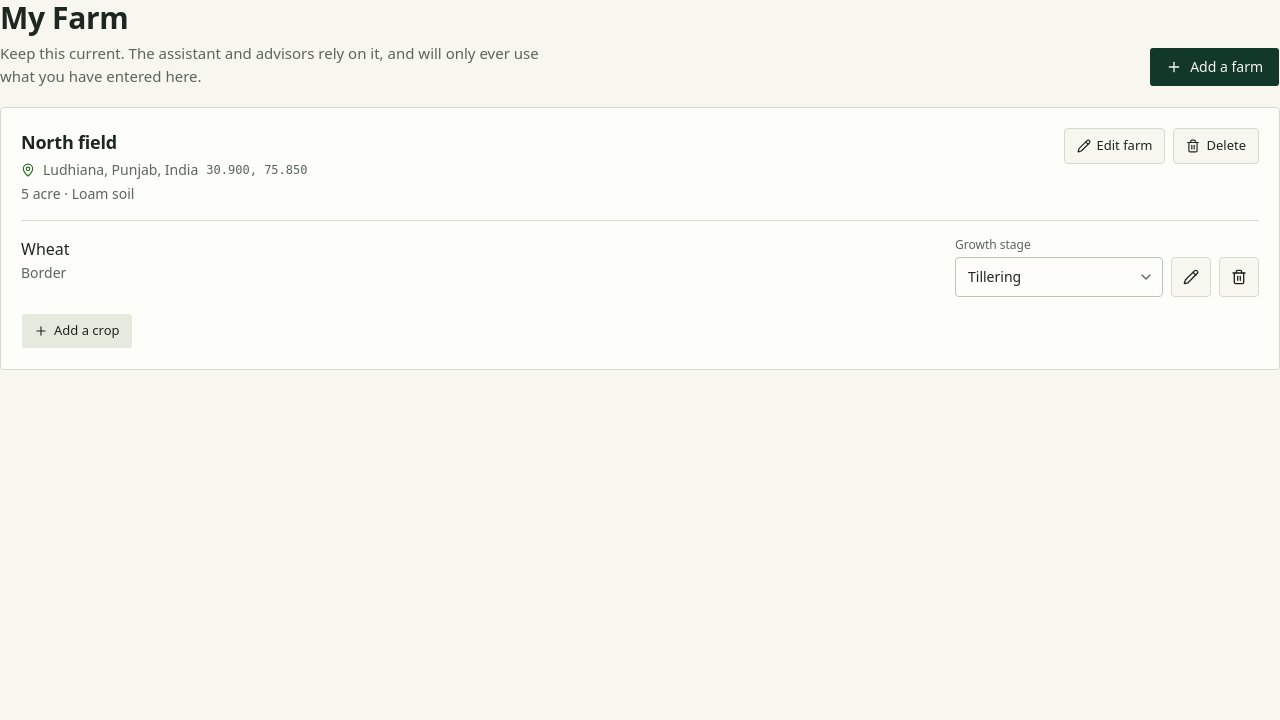
Test case: FarmPage › adds a farm with only what was entered
Click the button "Add a farm" at x=1215, y=67, box left=1149, top=47, right=1279, bottom=87
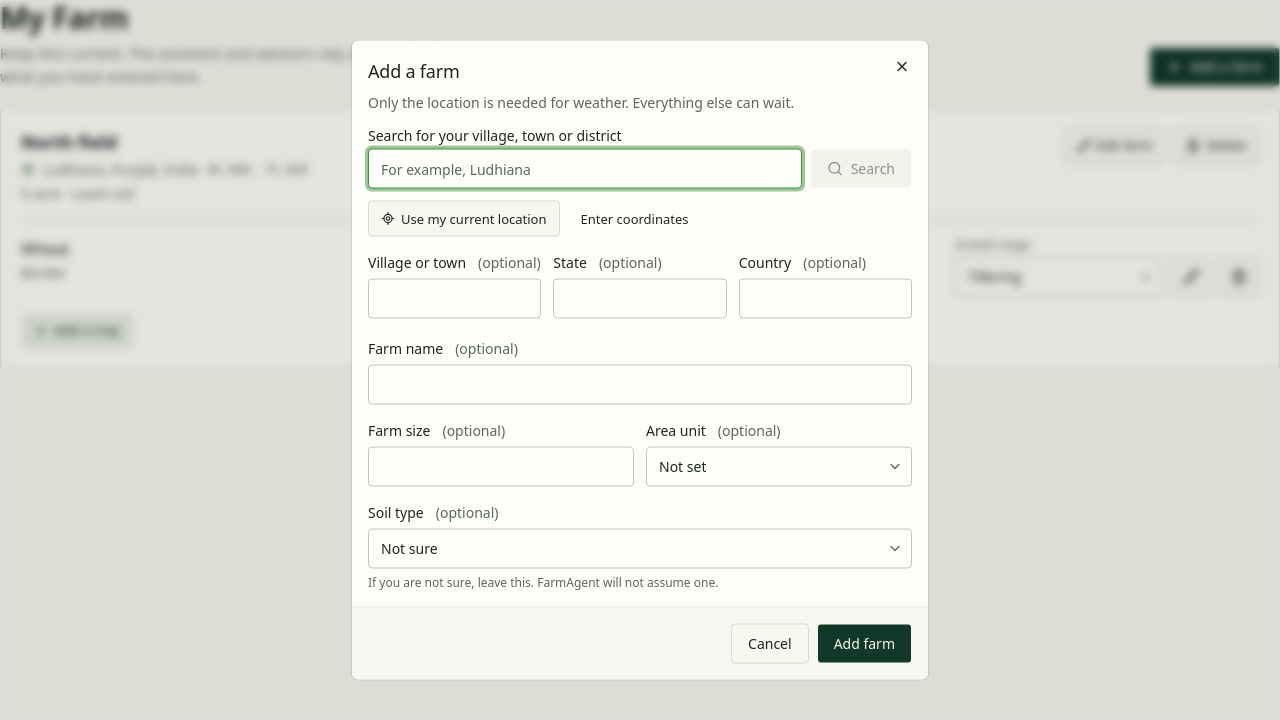
Type "River plot" into the field labelled "Farm name (optional)" at x=640, y=384, box left=368, top=364, right=912, bottom=404
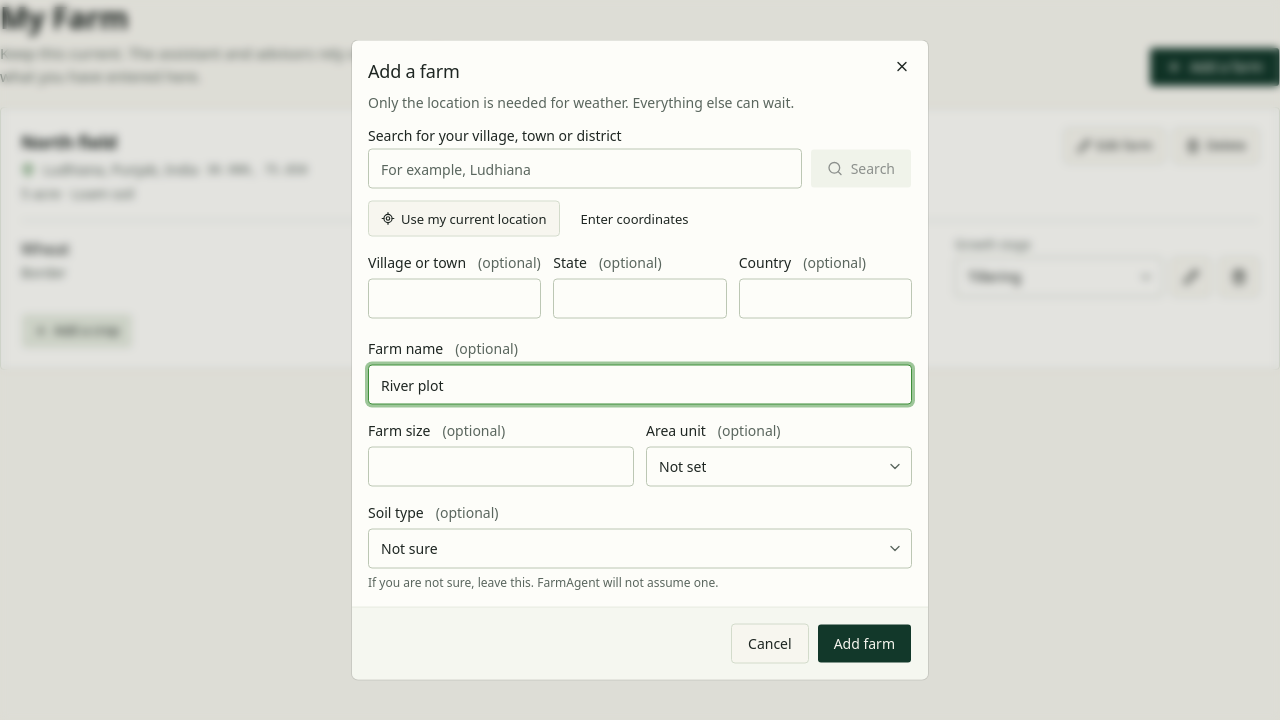
Click the button "Add farm" at x=864, y=644, box left=817, top=624, right=912, bottom=664
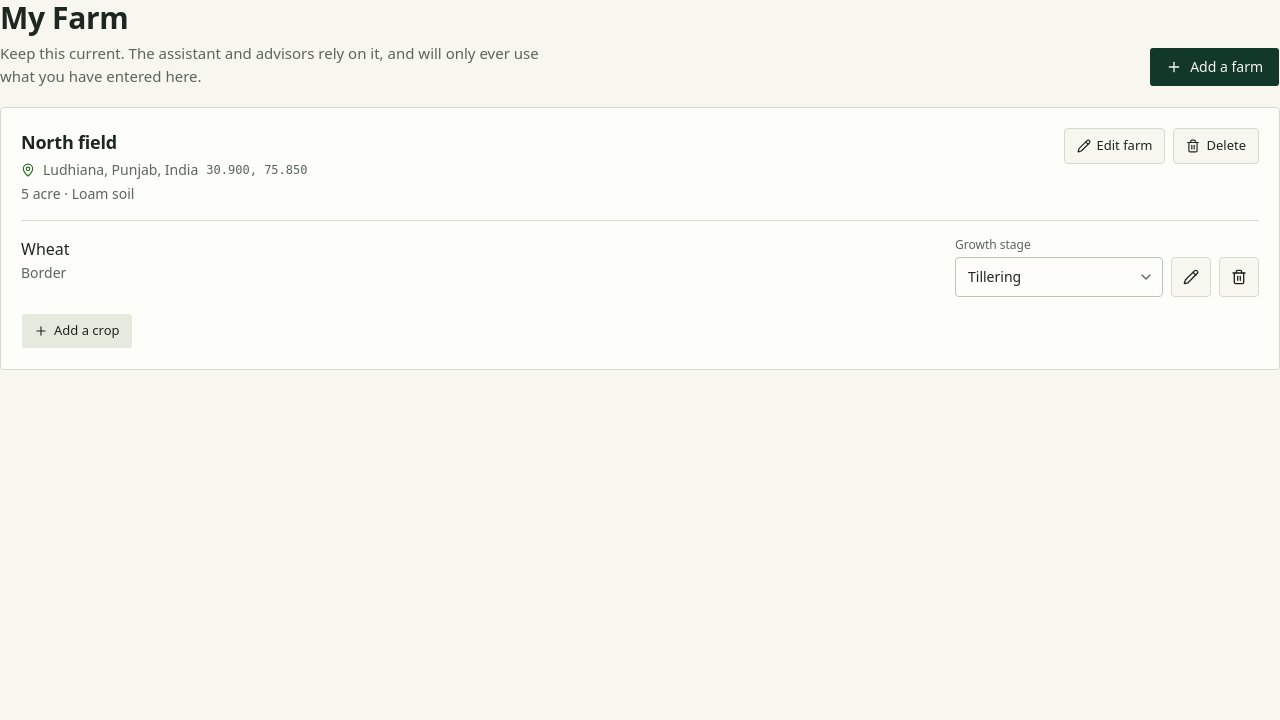
Check: the dialog is gone
